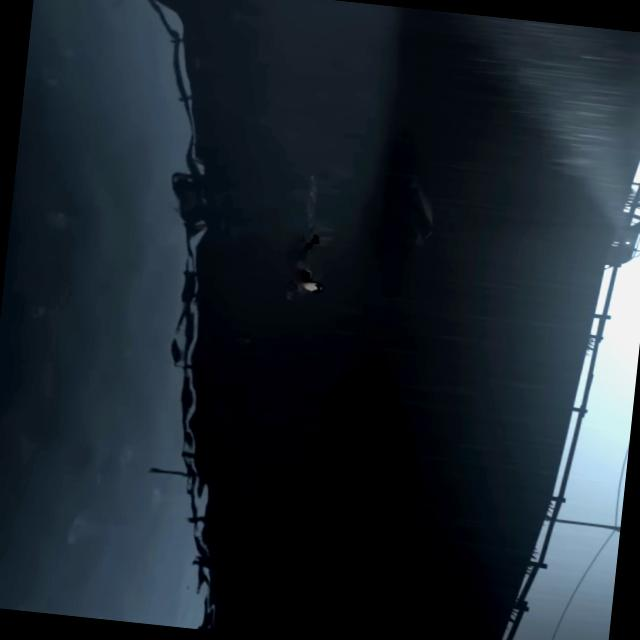boy: (296, 234, 328, 294)
